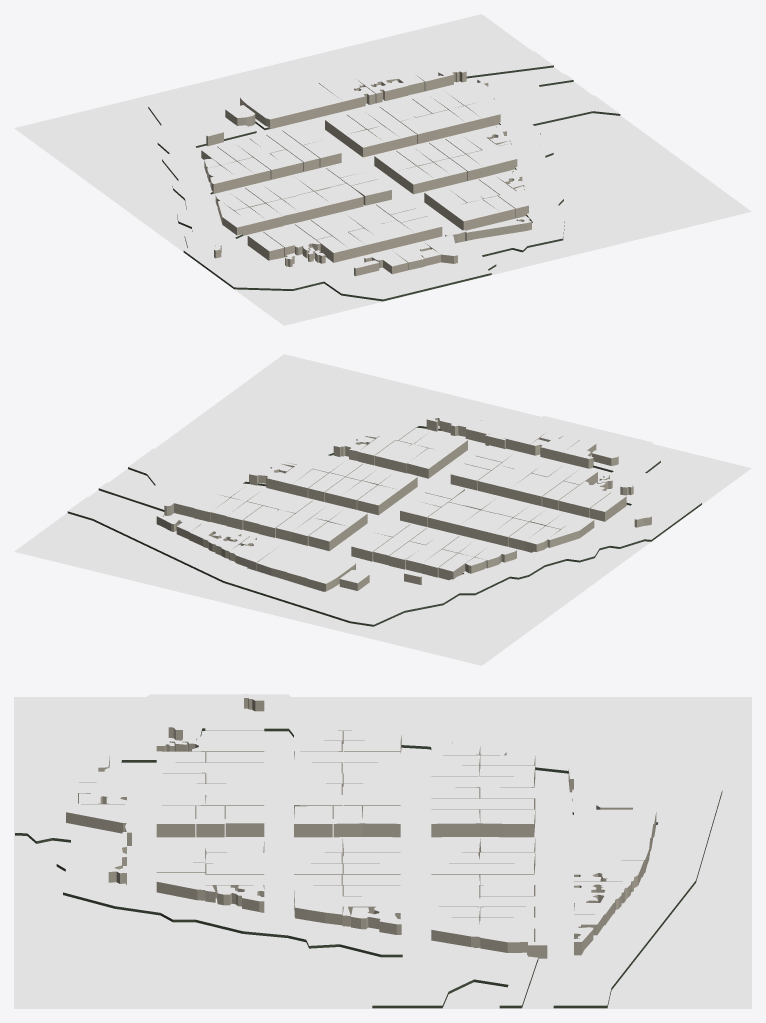
File: kartikeya_model.glb
3 views of the same model, one above another, from view 1: azimuth 30°, elevation 25°; view 2: azimuth 150°, elevation 25°; view 3: azimuth 270°, elevation 25° (orthographic). The views are drawn at different scales.
Visible parts, largest first — view 1: plan_tops, plan_board, plan_sides; view 2: plan_tops, plan_board, plan_sides; view 3: plan_tops, plan_board, plan_sides.
Boxes of the visible parts, box(x1,y1,x2,y2) form: plan_tops: box(148, 51, 619, 299); plan_board: box(14, 14, 751, 325); plan_sides: box(148, 65, 620, 301); plan_tops: box(68, 407, 701, 624); plan_board: box(14, 354, 751, 665); plan_sides: box(67, 418, 701, 626); plan_tops: box(15, 694, 722, 1005); plan_board: box(14, 697, 751, 1008); plan_sides: box(15, 698, 722, 1008).
Size of the model in its own units: 1 by 0.02 by 1.
